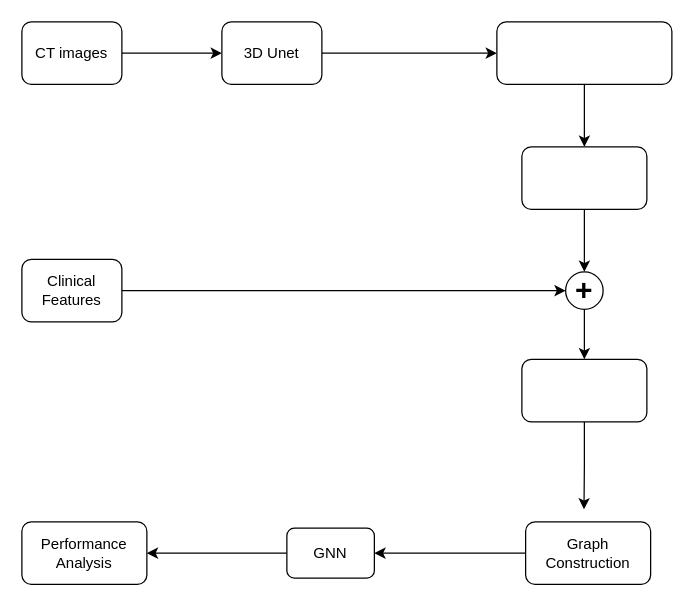
This 694x606 diagram has some shape labels left out. The shapes that lost their labels are listed below. From the top down, each one's centre as x and y in pixels, then its label:
pixel 584 52: Liver and Tumor Segmentation
pixel 584 177: Feature Extraction
pixel 584 390: Feature Analysis
